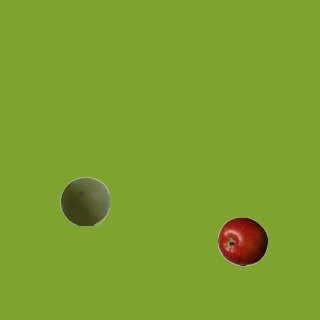Apple Braeburn: (217, 216, 267, 266)
Grape White 4: (59, 176, 109, 226)
